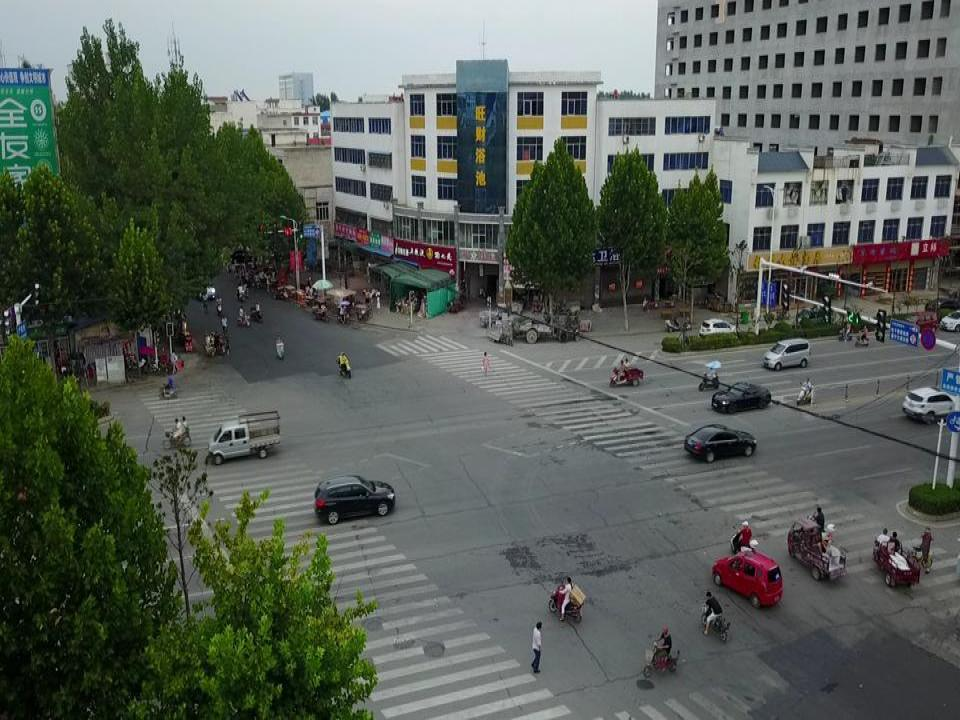car: (713, 551, 783, 609), (313, 475, 394, 524), (684, 424, 756, 463), (711, 380, 771, 416), (902, 387, 960, 424), (699, 319, 739, 341)
truck: (208, 410, 281, 465)
van: (761, 339, 810, 368), (897, 312, 938, 339), (794, 304, 833, 328)
